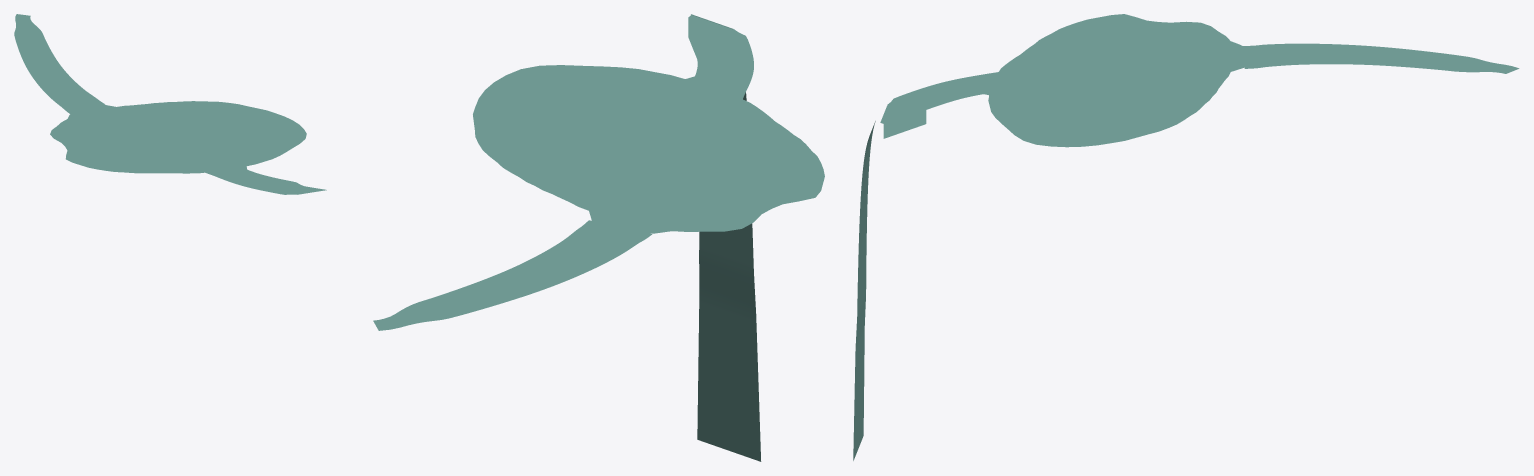
The model's file is water_wetland.glb.
3 views of the same model, side by side, from view 1: azimuth 30°, elevation 25°; view 2: azimuth 150°, elevation 25°; view 3: azimuth 270°, elevation 25° (orthographic). The views are drawn at different scales.
Visible parts, largest first — view 1: water_lake, water_river, water_outflow; view 2: water_lake, water_fall, water_river, water_outflow; view 3: water_lake, water_river, water_fall, water_outflow, water_fall_skirt.
Part boxes in pixels (x1,y1,x2,y2): water_lake: (50,101,306,176); water_river: (14,14,105,113); water_outflow: (205,170,326,194); water_lake: (473,65,824,234); water_fall: (691,14,761,461); water_river: (373,220,652,330); water_outflow: (691,15,753,99); water_lake: (973,14,1249,147); water_river: (1243,43,1519,73); water_fall: (853,121,875,460); water_outflow: (880,72,997,122); water_fall_skirt: (880,105,926,138).
Size of the model in its own units: 8.96 by 10.94 by 18.94.
